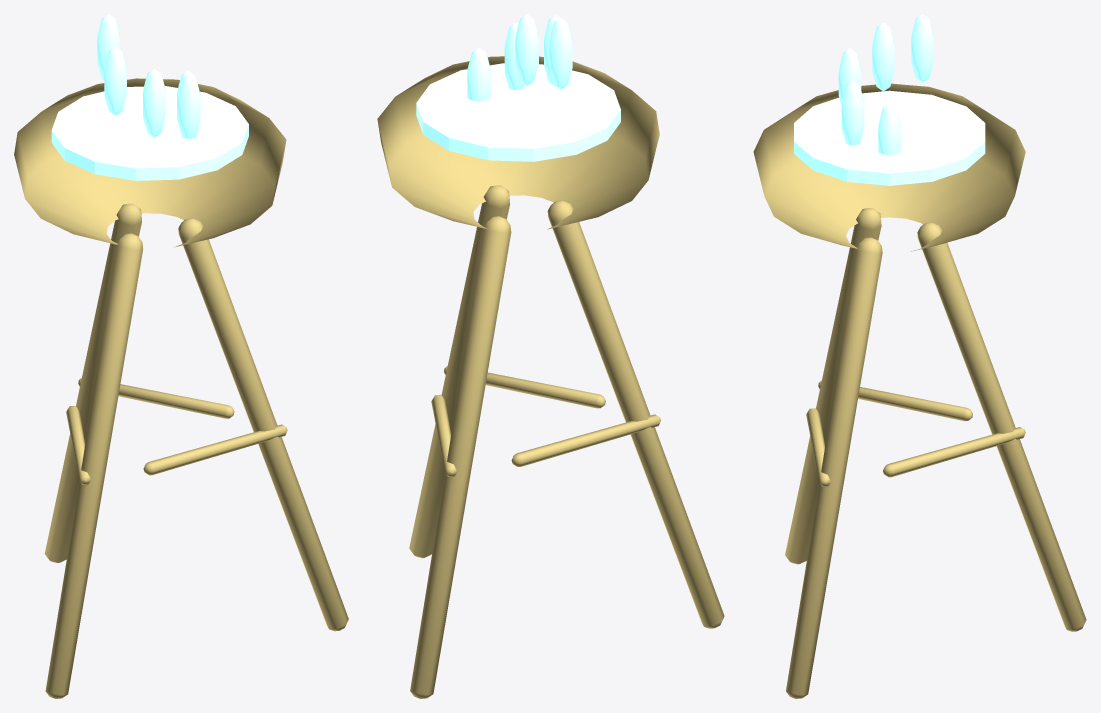
The model's file is mythic-underworld-and-olympus-oracle-tripod-fe01c8d9__21409.glb.
The picture shows the model from 3 angles, left to right: view 1: azimuth 30°, elevation 25°; view 2: azimuth 150°, elevation 25°; view 3: azimuth 270°, elevation 25°; orthographic projection. The views are drawn at different scales.
Parts seen in each view (by area): view 1: oracle-tripod; view 2: oracle-tripod; view 3: oracle-tripod.
Boxes of the visible parts, box(x1,y1,x2,y2) form: oracle-tripod: box(14, 14, 348, 698); oracle-tripod: box(377, 14, 724, 698); oracle-tripod: box(753, 14, 1086, 698).
Bounding box in the file's own units: 1.26 × 2.45 × 1.22.
